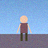person: (17, 16, 31, 41)
